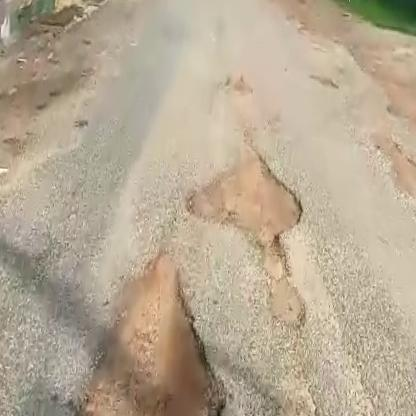pothole: (71, 250, 235, 416), (181, 143, 314, 254)
